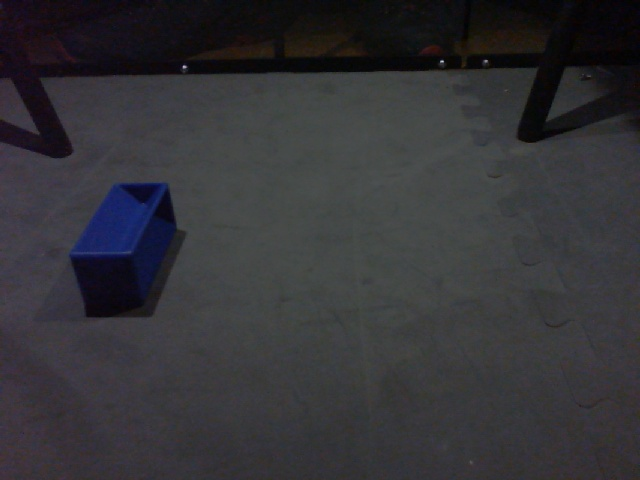BlueSample: (66, 176, 177, 315)
